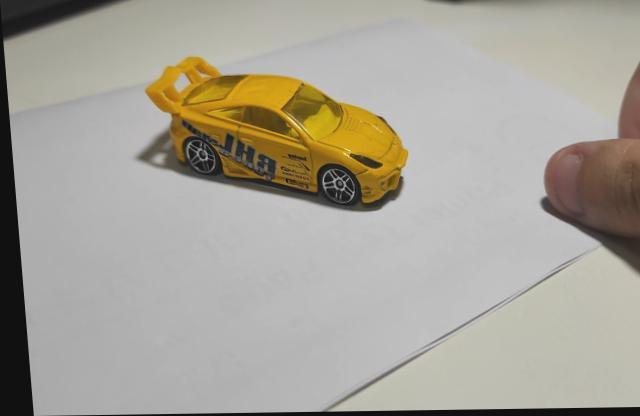07_RHLTURBO: (143, 58, 406, 213)
